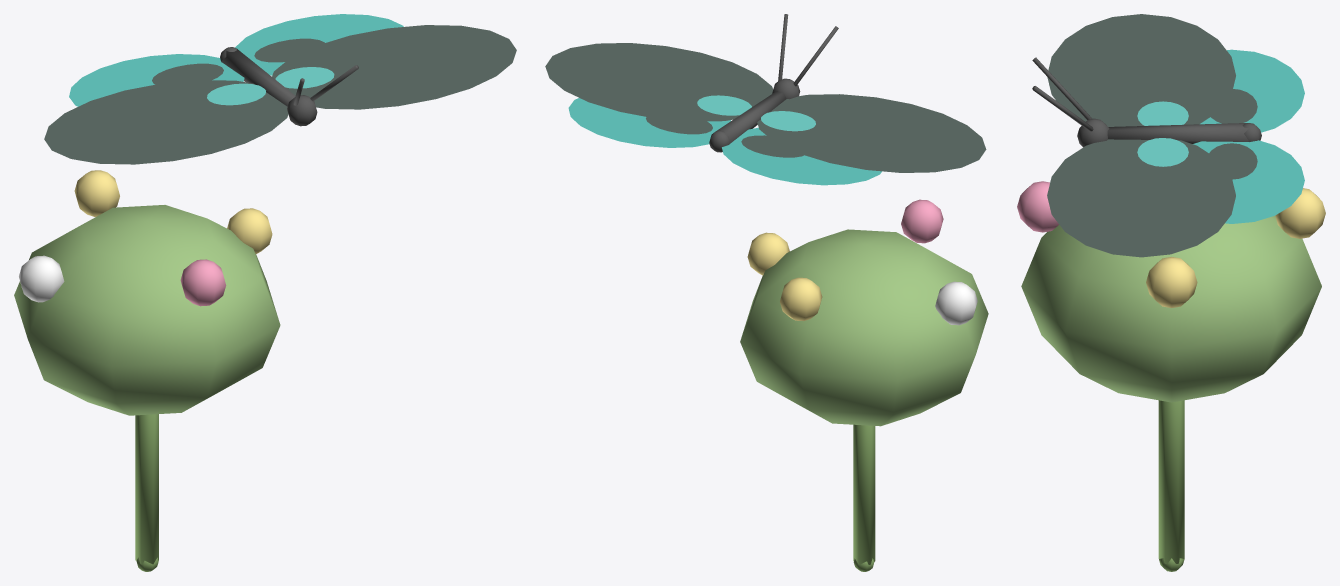
The model's file is paris-peacock.glb.
3 renders of one model, left to right at view 1: azimuth 30°, elevation 25°; view 2: azimuth 150°, elevation 25°; view 3: azimuth 270°, elevation 25°, orthographic. The views are drawn at different scales.
Parts seen in each view (by area): view 1: e, wingdisc, wingdisc.004, e.007; view 2: e, wingdisc, wingdisc.004, e.007; view 3: e, wingdisc.004, wingdisc, e.007.
Part boxes in pixels (bbox=[...]): e: bbox=[14, 170, 280, 571]; wingdisc: bbox=[44, 54, 288, 164]; wingdisc.004: bbox=[235, 14, 516, 109]; e.007: bbox=[220, 47, 358, 126]; e: bbox=[740, 199, 988, 571]; wingdisc: bbox=[722, 94, 986, 185]; wingdisc.004: bbox=[545, 43, 773, 147]; e.007: bbox=[709, 14, 838, 152]; e: bbox=[1017, 181, 1325, 571]; wingdisc.004: bbox=[1047, 138, 1304, 257]; wingdisc: bbox=[1047, 14, 1304, 132]; e.007: bbox=[1032, 57, 1261, 147].
Bounding box in the file's own units: 1.38 × 1.44 × 0.7187.
